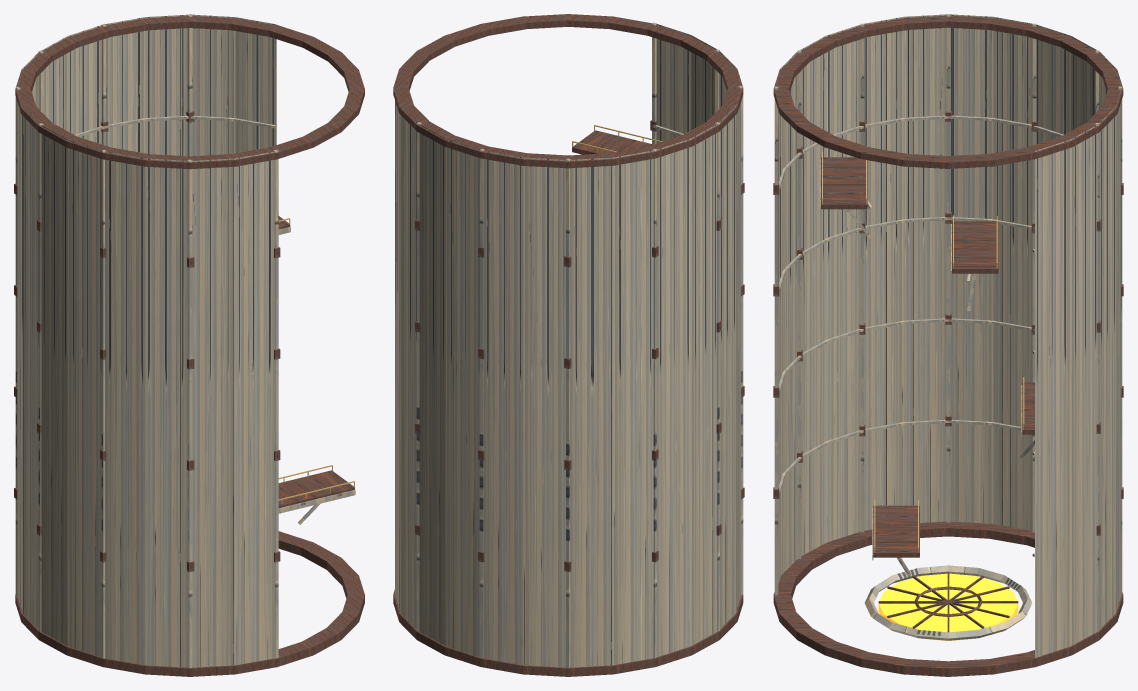
File: exhaustShaft.glb
3 views of the same model, side by side, from view 1: azimuth 30°, elevation 25°; view 2: azimuth 150°, elevation 25°; view 3: azimuth 270°, elevation 25° (orthographic).
Parts seen in each view (by area): view 1: ShaftWall.8, ShaftWall.7, ShaftWall.9, ShaftWall.6, ShaftWall.10, ShaftWall.11, UpperRim, ShaftWall.12, FoundationRing, ShaftWall.19, ShaftWall.20, ShaftWall.21 (+11 smaller); view 2: ShaftWall.15, ShaftWall.16, ShaftWall.17, ShaftWall.14, ShaftWall.18, ShaftWall.13, ShaftWall.12, ShaftWall.19, UpperRim, ShaftWall.20, ShaftWall.11, FoundationRing (+11 smaller); view 3: ShaftWall.11, ShaftWall.12, ShaftWall.21, ShaftWall.13, ShaftWall.10, ShaftWall.9, ShaftWall.20, ShaftWall.8, UpperRim, FoundationRing, ShaftWall.19, ShaftWall.7 (+17 smaller).
Part boxes in pixels (box(x1,y1,x2,y2)): ShaftWall.8: box(145, 158, 188, 667); ShaftWall.7: box(192, 158, 234, 667); ShaftWall.9: box(105, 151, 145, 665); ShaftWall.6: box(235, 151, 274, 665); ShaftWall.10: box(67, 139, 101, 657); ShaftWall.11: box(41, 125, 67, 645); UpperRim: box(15, 16, 364, 169); ShaftWall.12: box(23, 107, 38, 628); FoundationRing: box(15, 531, 364, 676); ShaftWall.19: box(145, 14, 187, 156); ShaftWall.20: box(192, 14, 234, 156); ShaftWall.21: box(235, 17, 276, 153); ShaftWall.15: box(570, 157, 613, 667); ShaftWall.16: box(523, 157, 565, 667); ShaftWall.17: box(483, 150, 523, 665); ShaftWall.14: box(613, 150, 653, 665); ShaftWall.18: box(445, 139, 479, 657); ShaftWall.13: box(657, 138, 690, 657); ShaftWall.12: box(691, 124, 717, 645); ShaftWall.19: box(419, 124, 445, 645); UpperRim: box(393, 14, 743, 168); ShaftWall.20: box(400, 106, 417, 629); ShaftWall.11: box(719, 106, 735, 629); FoundationRing: box(393, 589, 743, 676); ShaftWall.11: box(903, 14, 946, 522); ShaftWall.12: box(950, 14, 993, 523); ShaftWall.21: box(1035, 139, 1070, 657); ShaftWall.13: box(993, 17, 1032, 530); ShaftWall.10: box(864, 17, 903, 530); ShaftWall.9: box(826, 24, 860, 542); ShaftWall.20: box(1071, 125, 1097, 645); ShaftWall.8: box(800, 36, 825, 556); UpperRim: box(773, 15, 1123, 168); FoundationRing: box(773, 521, 1123, 676); ShaftWall.19: box(1099, 106, 1115, 629); ShaftWall.7: box(781, 52, 797, 575).
Size of what is drawn, in the model's own units: 75.05 by 124 by 75.1.
Materials: 6 (4 with a texture image).
